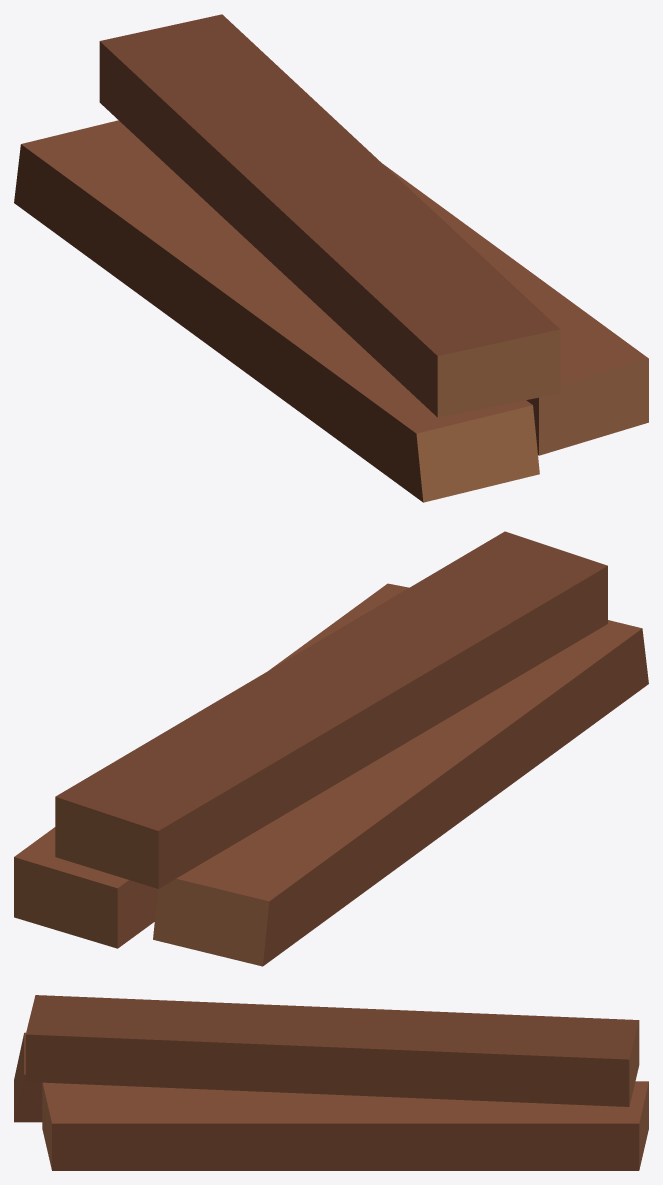
The model's file is planks_LOW_2.fbx.
The picture shows the model from 3 angles, top to bottom: view 1: azimuth 30°, elevation 25°; view 2: azimuth 150°, elevation 25°; view 3: azimuth 270°, elevation 25°; orthographic projection. The views are drawn at different scales.
Parts seen in each view (by area): view 1: planks; view 2: planks; view 3: planks.
Boxes of the visible parts, x1,y1,x2,y2 form: planks: (14, 14, 648, 502); planks: (14, 531, 648, 966); planks: (14, 995, 648, 1170).
Size of the model in its own units: 32.37 by 16.27 by 95.6.
